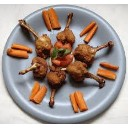chicken_lollipop: (16, 16, 53, 54), (68, 61, 105, 89), (46, 68, 68, 114), (74, 42, 116, 62), (17, 58, 51, 78), (61, 10, 77, 44)
